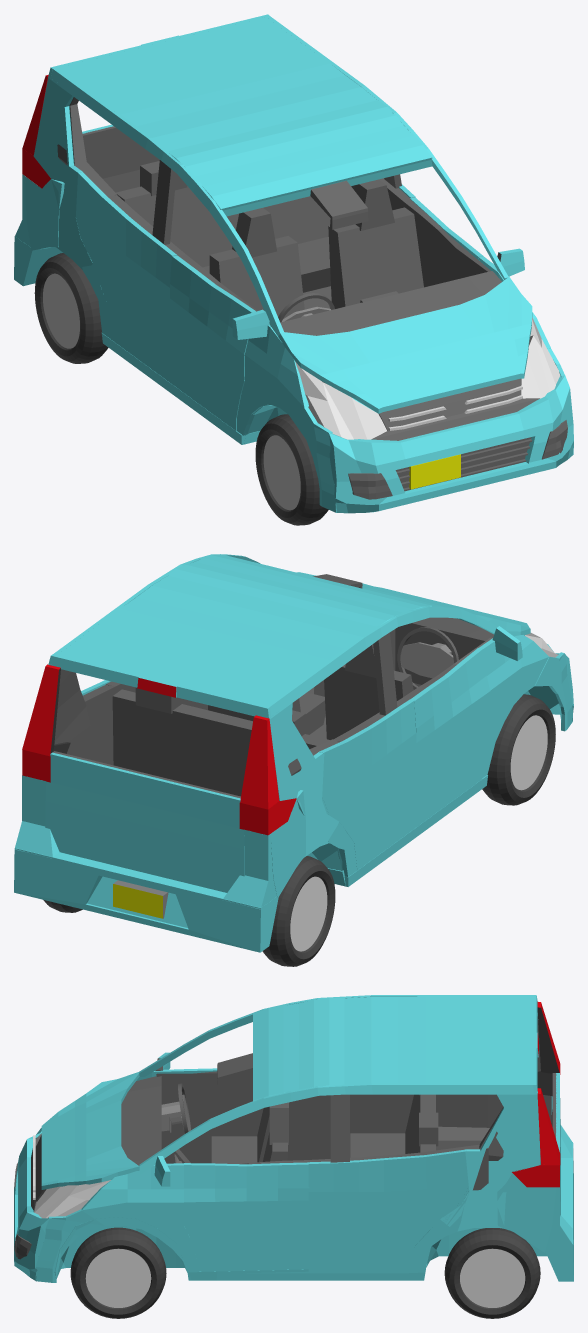
File: EKB11W.fbx
The picture shows the model from 3 angles, top to bottom: view 1: azimuth 30°, elevation 25°; view 2: azimuth 150°, elevation 25°; view 3: azimuth 270°, elevation 25°; orthographic projection. The views are drawn at different scales.
Visible parts, largest first — view 1: 立方体.016, 立方体.021, 立方体.024, 立方体.037, 立方体.057, 立方体.036, 立方体.053, 立方体.039, 立方体.006, 立方体.020, 立方体.013, 立方体.030 (+29 smaller); view 2: 立方体.016, 立方体.063, 立方体, 立方体.037, 立方体.053, 立方体.036, 立方体.006, 立方体.020, 立方体.057, トーラス, トーラス.002, 立方体.013 (+29 smaller); view 3: 立方体.016, 立方体.038, 立方体.035, 立方体.044, 立方体.021, 立方体.005, 立方体.019, 立方体.015, トーラス.001, トーラス.003, 円柱.003, 円柱.002 (+32 smaller).
Part boxes in pixels (x1,y1,x2,y2): 立方体.016: (57,17,432,210); 立方体.021: (278,276,532,413); 立方体.024: (329,375,573,513); 立方体.037: (76,171,176,382); 立方体.057: (209,207,423,318); 立方体.036: (170,255,255,430); 立方体.053: (116,186,330,267); 立方体.039: (280,271,501,382); 立方体.006: (33,78,92,269); 立方体.020: (237,311,308,435); 立方体.013: (50,68,283,335); 立方体.030: (371,378,539,440); 立方体.016: (57,554,431,705); 立方体.063: (45,752,244,892); 立方体: (14,848,278,952); 立方体.037: (319,699,416,870); 立方体.053: (112,689,329,796); 立方体.036: (411,648,490,826); 立方体.006: (269,703,338,857); 立方体.020: (478,635,548,778); 立方体.057: (208,664,413,739); トーラス: (482,694,555,805); トーラス.002: (262,856,335,966); 立方体.013: (266,606,497,718); 立方体.016: (253,996,532,1101); 立方体.038: (308,1149,468,1273); 立方体.035: (184,1162,309,1273); 立方体.044: (156,1071,413,1163); 立方体.021: (41,1072,139,1189); 立方体.005: (440,1091,540,1231); 立方体.019: (81,1163,197,1272); 立方体.015: (139,1083,534,1174); トーラス.001: (70,1227,166,1318); トーラス.003: (444,1228,540,1318); 円柱.003: (85,1248,151,1307); 円柱.002: (460,1248,525,1307).
Size of the model in its own units: 119 by 108 by 237.
